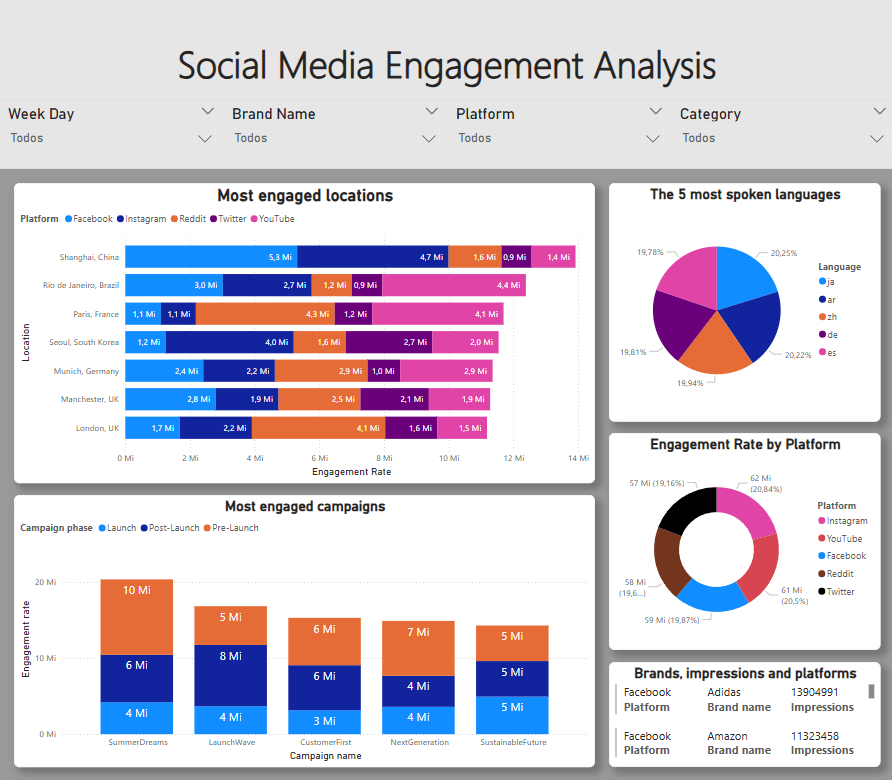

This screenshot's page, from the dashboard's own definition file:
{"tool":"powerbi","page":{"name":"Página 2","canvas":[1280,1120],"ordinal":1},"visuals":[{"type":"pieChart","title":"The 5 most spoken languages","fields":{"Category":["Social Media Engagement Dataset.language"],"Y":["Sum(Social Media Engagement Dataset.comments_count)"]},"box":[871,264,388,341],"z":0},{"type":"textbox","box":[0,0,1280,147],"z":1000},{"type":"donutChart","title":"Engagement Rate by Platform","fields":{"Category":["Social Media Engagement Dataset.platform"],"Y":["Sum(Social Media Engagement Dataset.engagement_rate)"]},"box":[871,622,388,310],"z":2000},{"type":"barChart","title":"Most engaged locations","fields":{"Category":["Social Media Engagement Dataset.location"],"Y":["Sum(Social Media Engagement Dataset.engagement_rate)"],"Series":["Social Media Engagement Dataset.platform"]},"box":[21,264,830,429],"z":3000},{"type":"slicer","fields":{"Values":["Social Media Engagement Dataset.day_of_week"]},"box":[0,147,320,97],"z":4000},{"type":"slicer","fields":{"Values":["Social Media Engagement Dataset.brand_name"]},"box":[320,147,320,97],"z":5000},{"type":"slicer","fields":{"Values":["Social Media Engagement Dataset.platform"]},"box":[640,147,320,97],"z":6000},{"type":"slicer","fields":{"Values":["Social Media Engagement Dataset.topic_category"]},"box":[960,147,320,97],"z":7000},{"type":"multiRowCard","title":"Brands, impressions and platforms","fields":{"Values":["Social Media Engagement Dataset.platform","Social Media Engagement Dataset.brand_name","Sum(Social Media Engagement Dataset.impressions)"]},"box":[871,949,388,150],"z":8000},{"type":"columnChart","title":"Most engaged campaigns","fields":{"Category":["Social Media Engagement Dataset.campaign_name"],"Y":["Sum(Social Media Engagement Dataset.engagement_rate)"],"Series":["Social Media Engagement Dataset.campaign_phase"]},"box":[21,710,830,389],"z":9000}]}

Visuals, with their boxes in screenshot pixels (x1, y1, x2, y2), scaled from the page's 1280x1120 canvas onto the 892x780 screenshot:
"The 5 most spoken languages" pieChart: 607/184/877/421
textbox: 0/0/891/102
"Engagement Rate by Platform" donutChart: 607/433/877/649
"Most engaged locations" barChart: 15/184/593/483
slicer - Social Media Engagement Dataset.day_of_week: 0/102/223/170
slicer - Social Media Engagement Dataset.brand_name: 223/102/446/170
slicer - Social Media Engagement Dataset.platform: 446/102/669/170
slicer - Social Media Engagement Dataset.topic_category: 669/102/891/170
"Brands, impressions and platforms" multiRowCard: 607/661/877/765
"Most engaged campaigns" columnChart: 15/494/593/765
